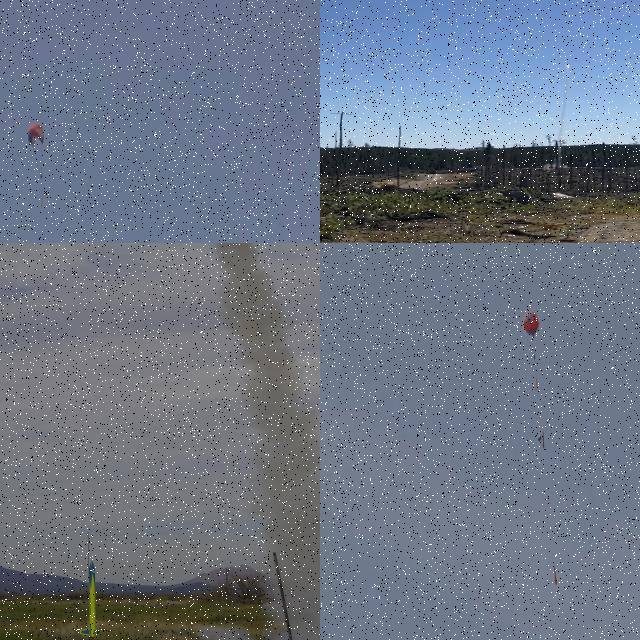Rocket: (80, 560, 103, 638), (553, 566, 558, 585), (567, 62, 570, 64)
